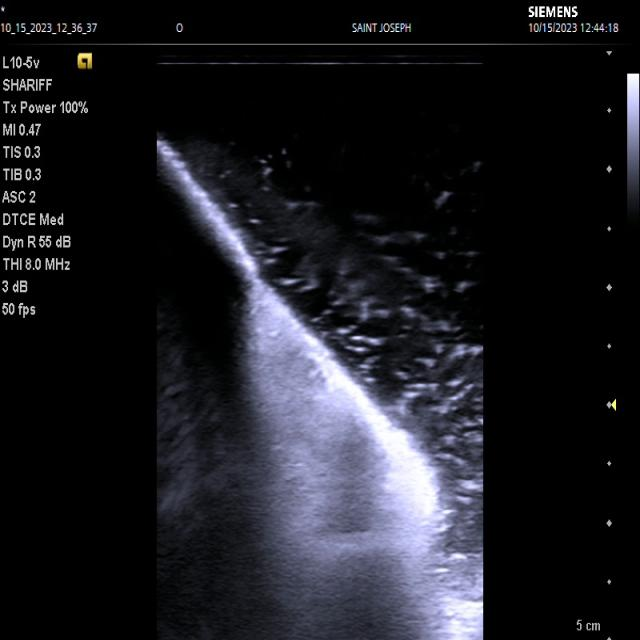tissue: (151, 138, 480, 640)
